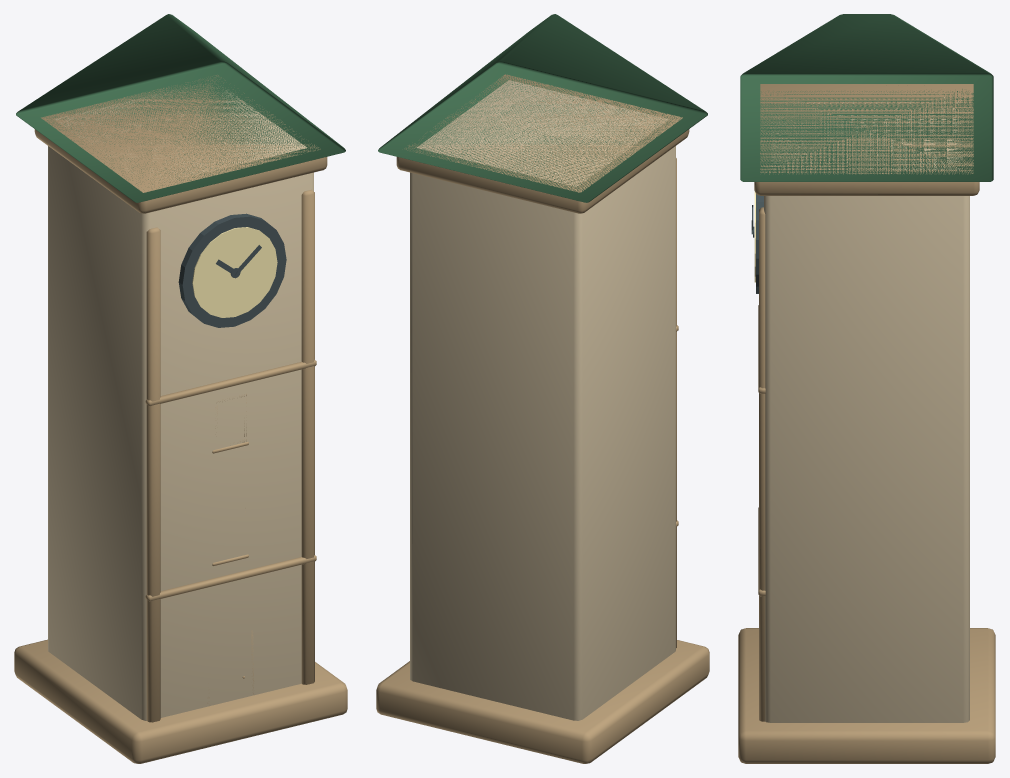
Rendered from tower.glb.
3 renders of one model, left to right at view 1: azimuth 30°, elevation 25°; view 2: azimuth 150°, elevation 25°; view 3: azimuth 270°, elevation 25°, orthographic. The views are drawn at different scales.
Parts seen in each view (by area): view 1: tower; view 2: tower; view 3: tower.
Boxes of the visible parts, left/top/right/bottom form: tower: left=14, top=14, right=347, bottom=763; tower: left=376, top=14, right=709, bottom=763; tower: left=738, top=14, right=995, bottom=763.
Bounding box in the file's own units: 6 × 17.96 × 6.
